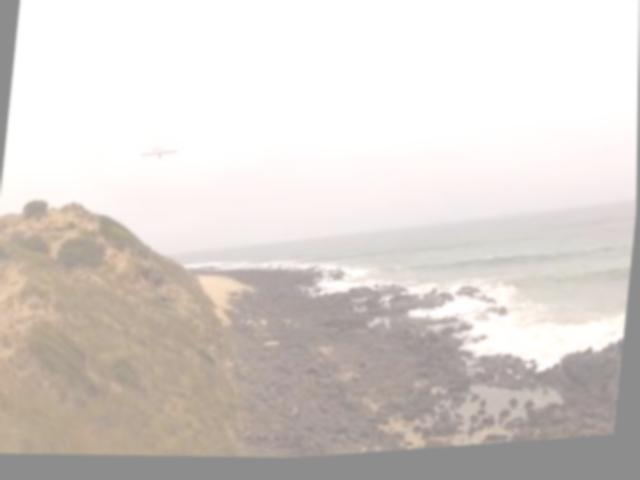uav: (138, 136, 185, 172)
